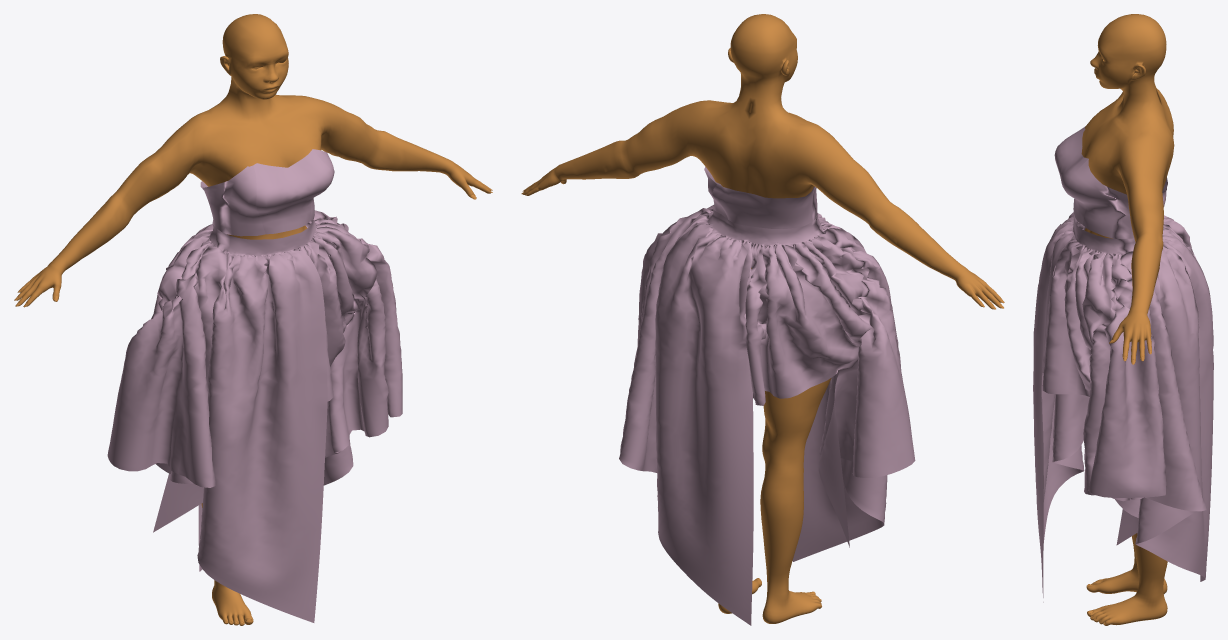
Rendered from dress8.glb.
3 views of the same model, side by side, from view 1: azimuth 30°, elevation 25°; view 2: azimuth 150°, elevation 25°; view 3: azimuth 270°, elevation 25° (orthographic).
Parts seen in each view (by area): view 1: Project 1, Body; view 2: Project 1, Body; view 3: Project 1, Body.
Boxes of the visible parts, box(x1,y1,x2,y2) form: Project 1: box(107, 149, 402, 622); Body: box(16, 14, 492, 625); Project 1: box(619, 167, 915, 625); Body: box(523, 14, 1001, 623); Project 1: box(1033, 126, 1213, 602); Body: box(1081, 14, 1174, 625).
Bounding box in the file's own units: 1.58 × 1.85 × 0.5151.
